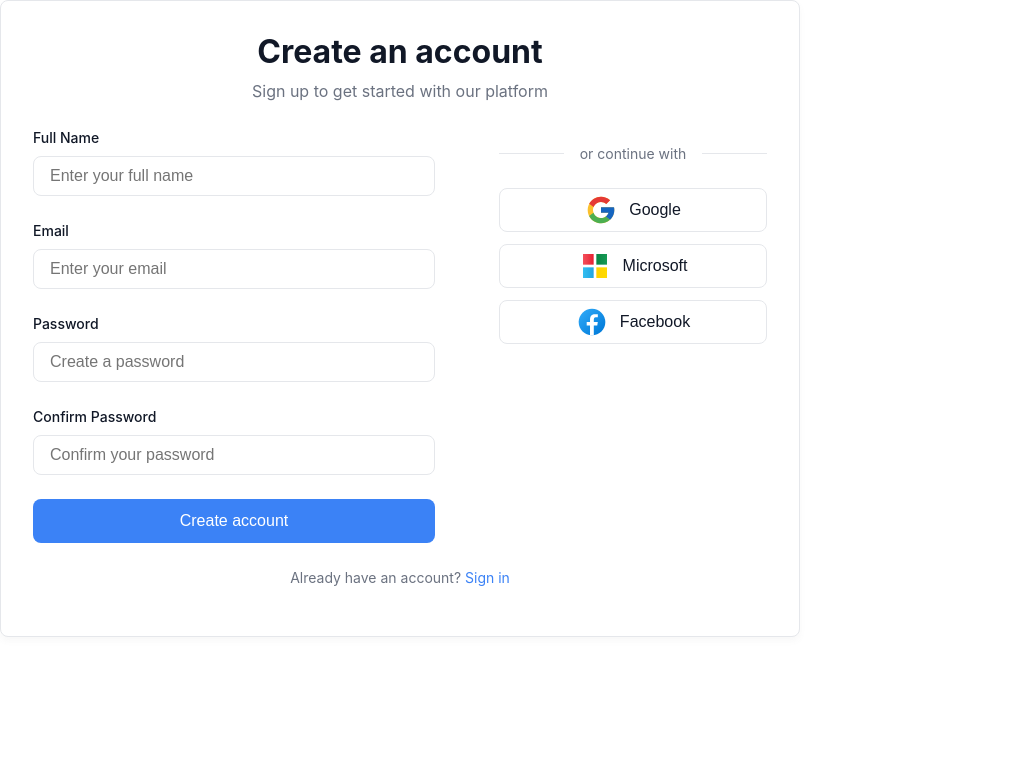
Scenario: SignupForm › shows password length error if password is too short on submit
Type "Test" into the field labelled "Full Name".
click(234, 176); type("Test")  # box [33,156,435,196]
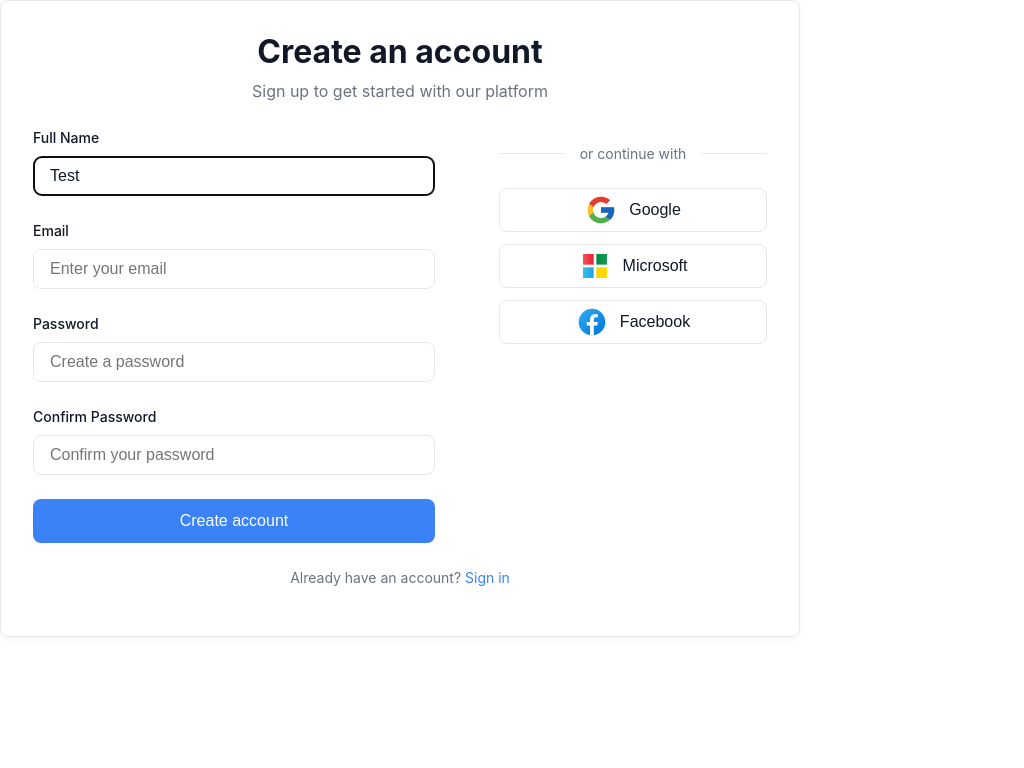
Type "test@test.com" into the field labelled "Email".
click(234, 269); type("test@test.com")  # box [33,249,435,289]
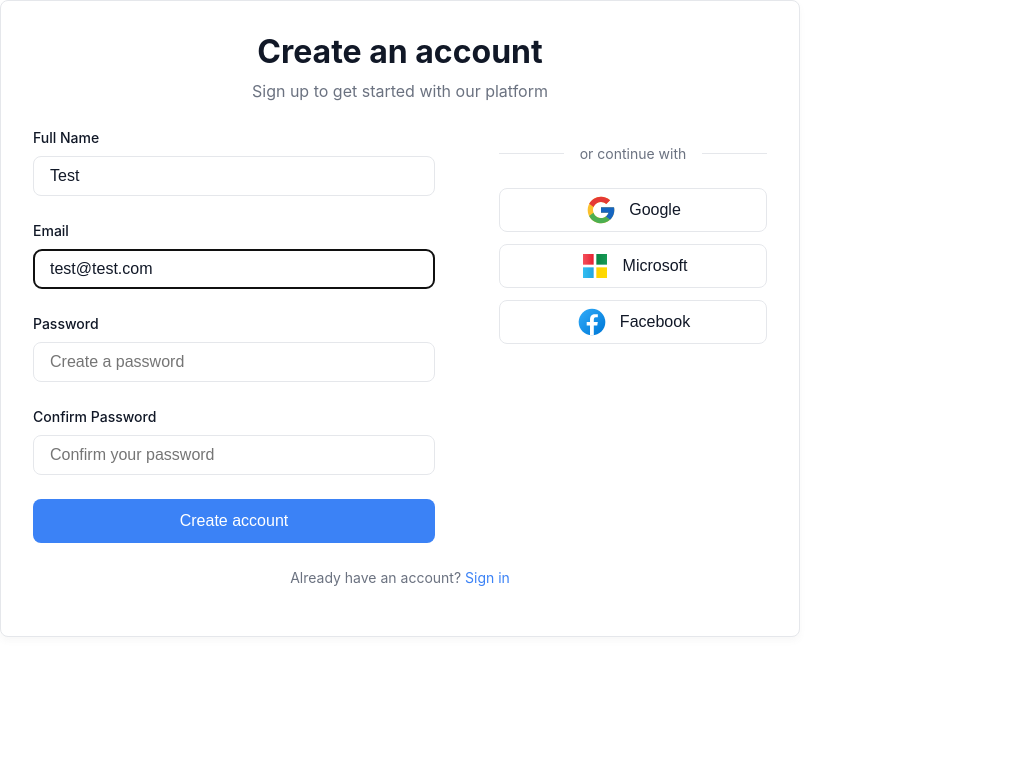
Type "short" into the password field labelled "Password".
click(234, 362); type("short")  # box [33,342,435,382]
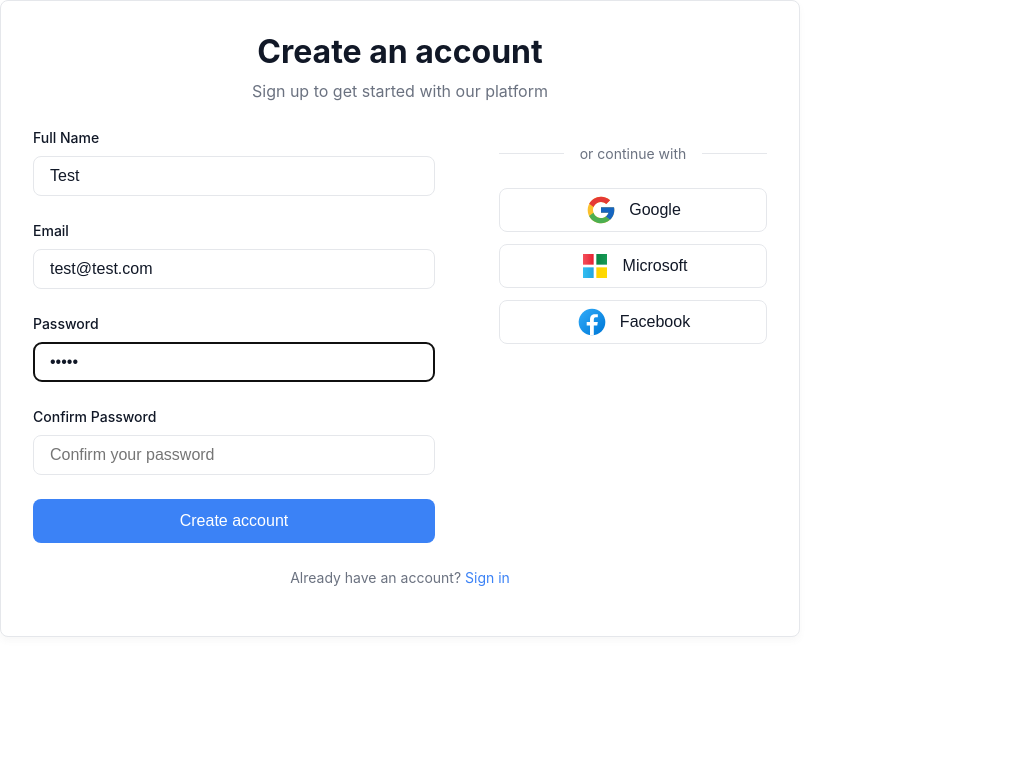
Type "short" into the password field labelled "Confirm Password".
click(234, 455); type("short")  # box [33,435,435,475]
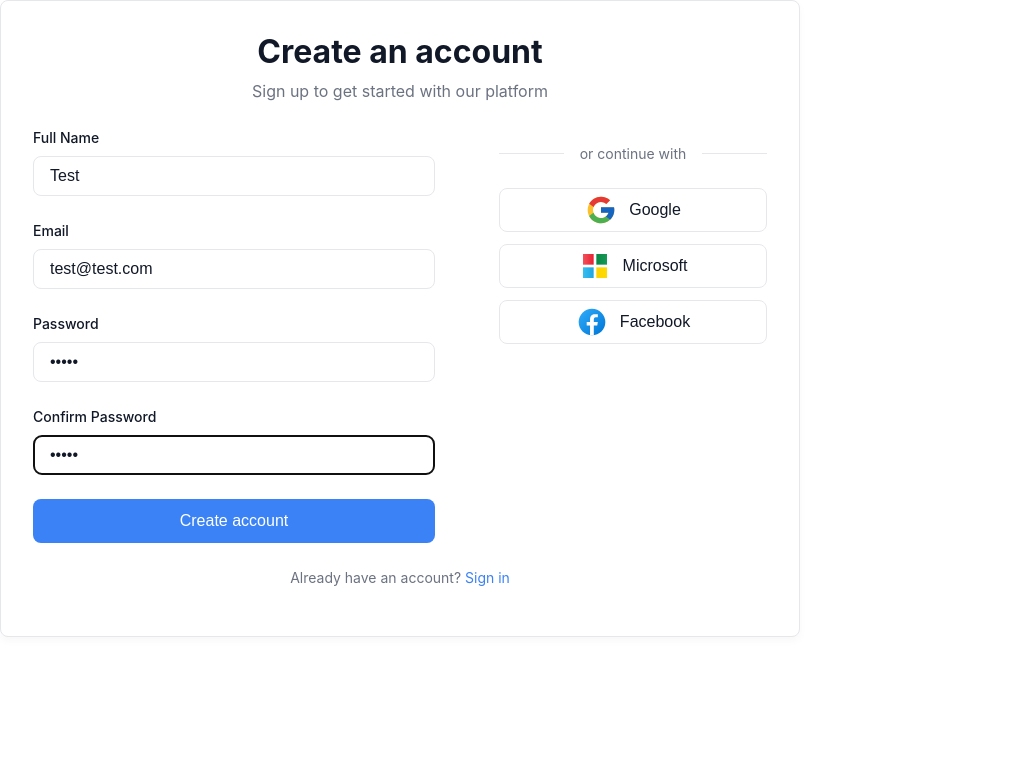
Click the button "Create account".
click(234, 521)  # box [33,499,435,543]
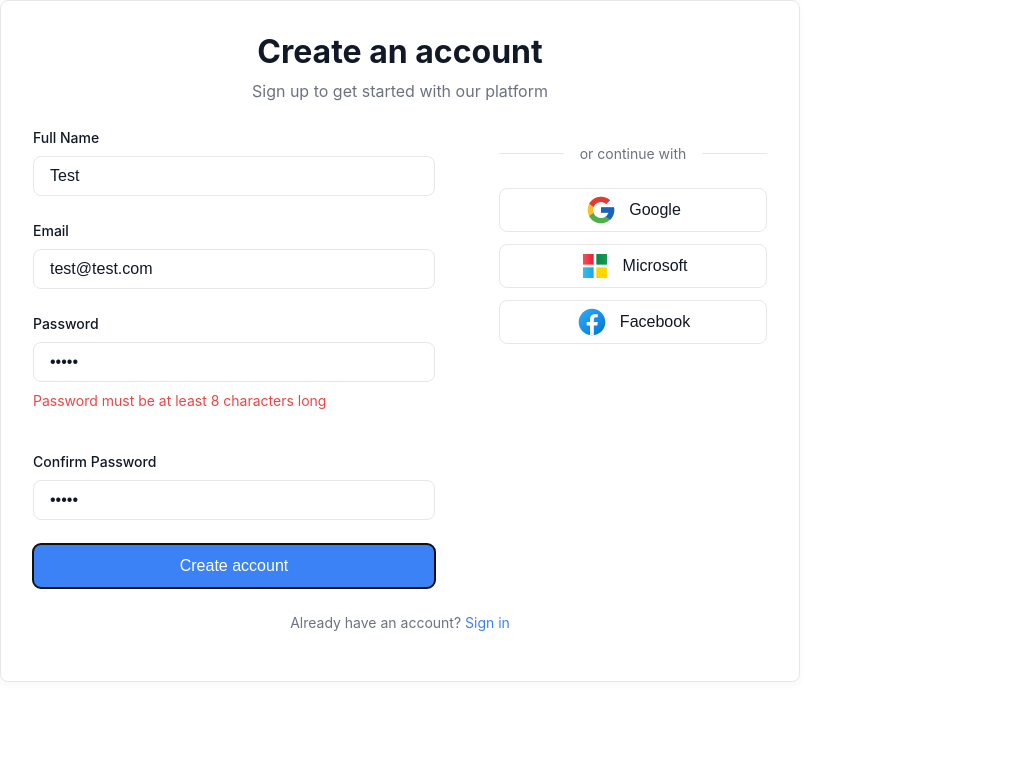
Now the text "Password must be at least 8 characters long" is shown, box [33,392,326,409]
